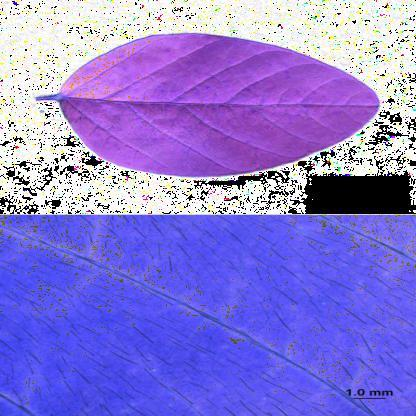Soyabean leaf: (30, 23, 392, 188)
